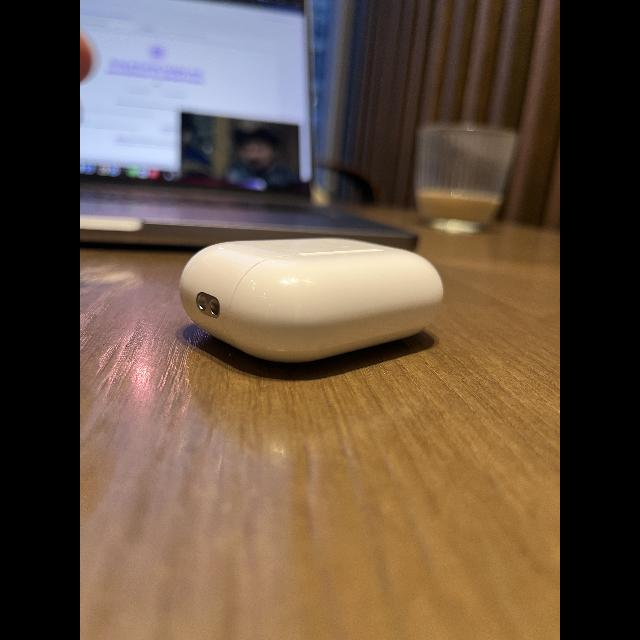AirPods Pro: (176, 228, 448, 382)
